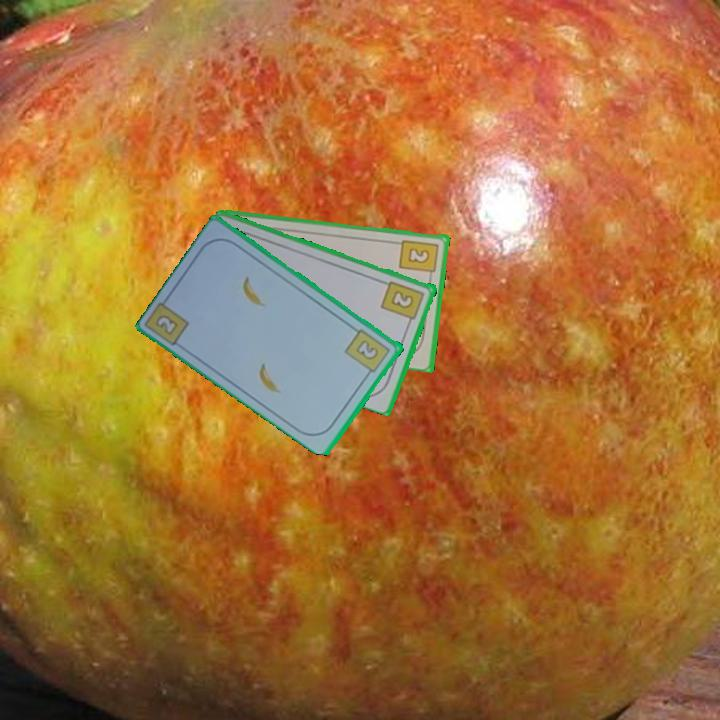2b: (342, 325, 394, 380), (378, 277, 427, 328), (397, 236, 442, 281), (152, 311, 181, 338)
